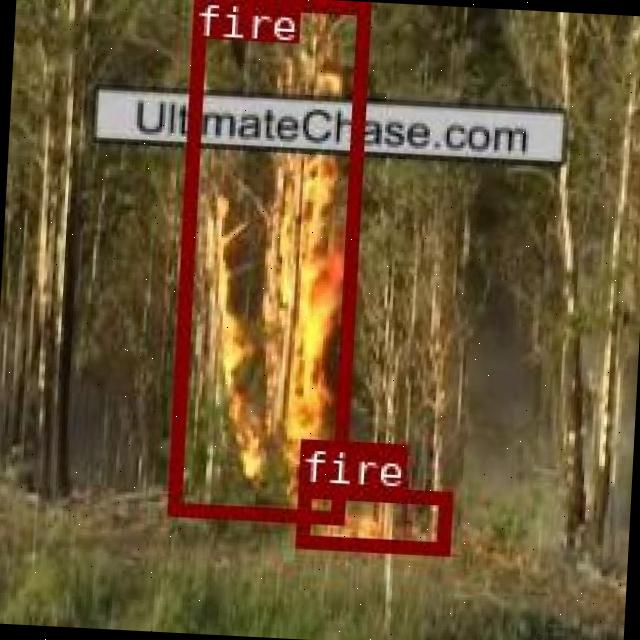fire: (164, 0, 368, 520), (294, 483, 449, 552)
